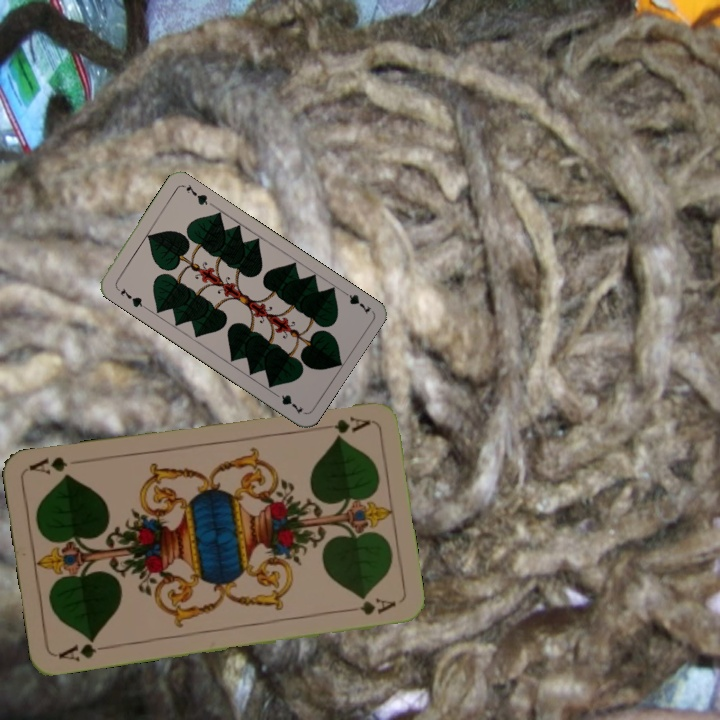G7: (337, 286, 374, 316), (112, 283, 148, 310)
GA: (54, 634, 113, 664), (330, 412, 373, 436)
